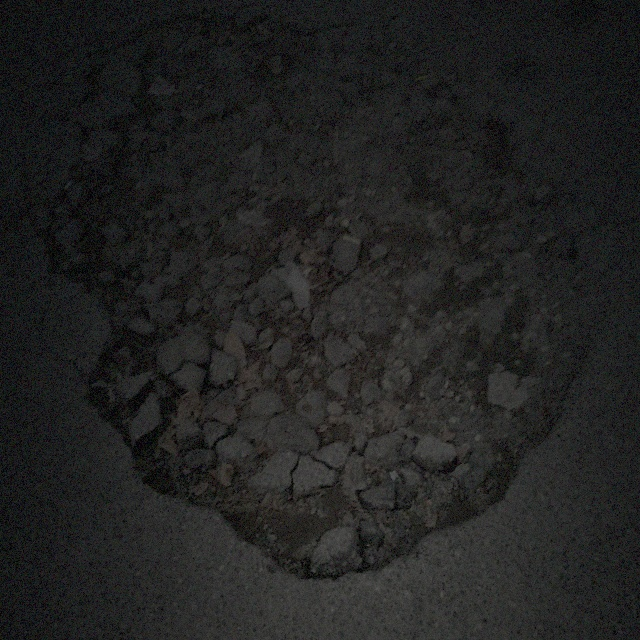pothole: (44, 5, 598, 580)
